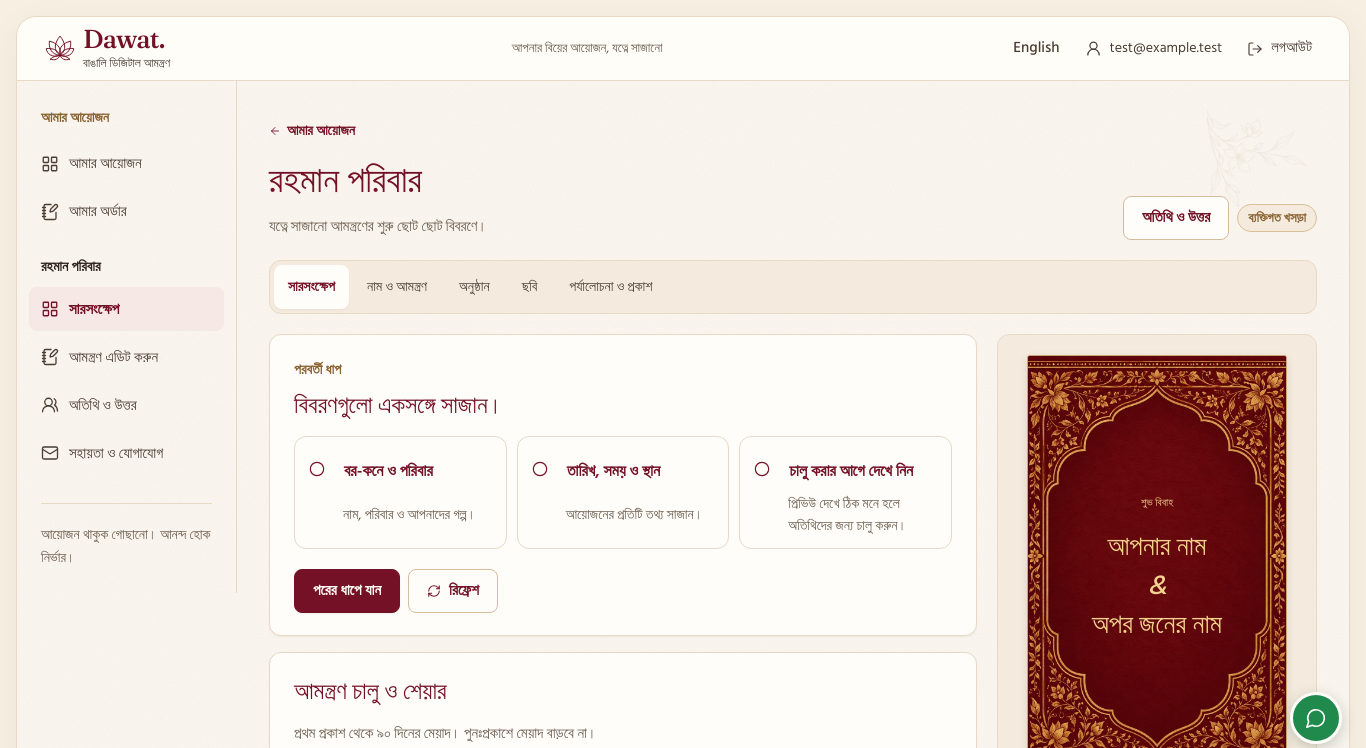
Scenario: provides ready wording behind an edit action while leaving personal details empty
The width and height of the screenshot is (1366, 748).
Click the button "নাম ও আমন্ত্রণ" at (397, 287), box [353, 265, 441, 309]
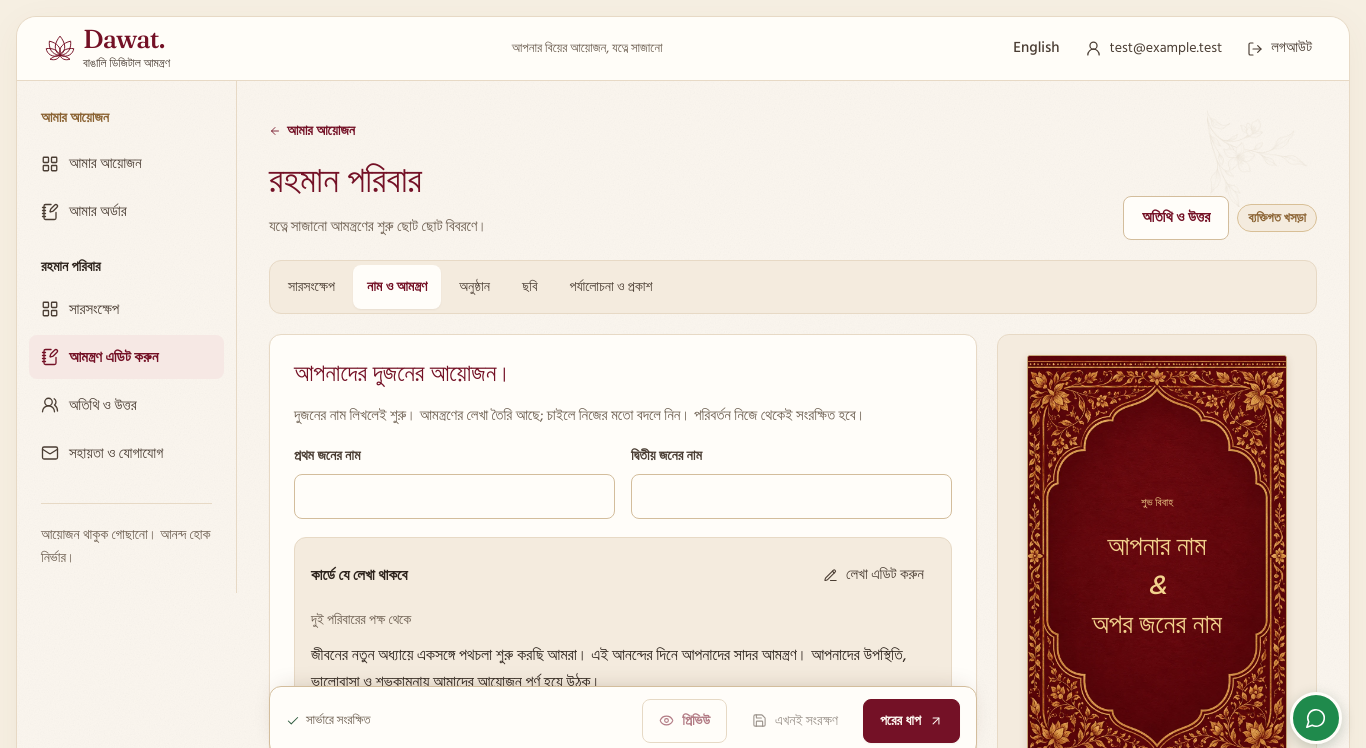
Check: the field labelled "প্রথম জনের নাম" is empty, box [294, 474, 615, 519]
Check: the text "জীবনের নতুন অধ্যায়ে একসঙ্গে পথচলা শুরু করছি আমরা। এই আনন্দের দিনে আপনাদের সাদর আমন্ত্রণ। আপনাদের উপস্থিতি, ভালোবাসা ও শু" is shown, box [311, 642, 910, 694]
Click the button "লেখা এডিট করুন" at (874, 576), box [812, 554, 935, 598]
(page scrolled)
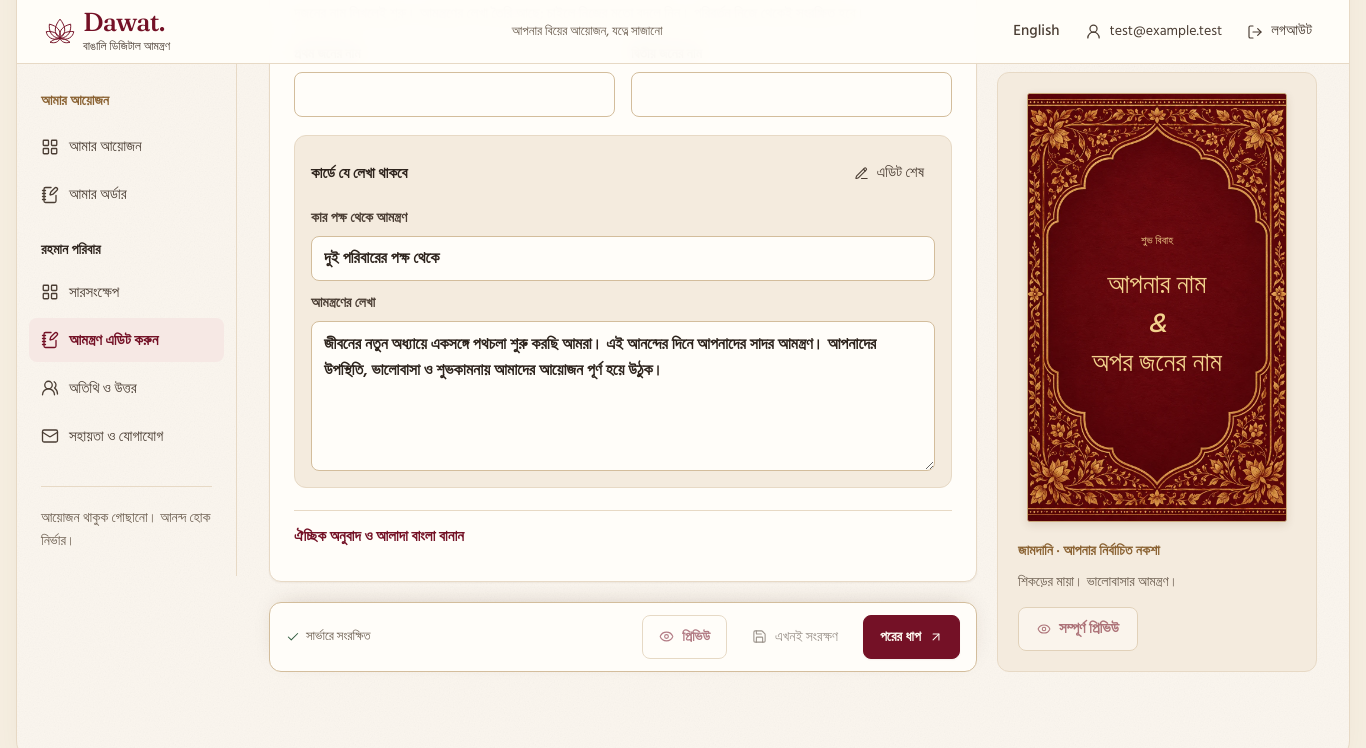
Check: the text box labelled "আমন্ত্রণের লেখা" holds "জীবনের নতুন অধ্যায়ে একসঙ্গে পথচলা শুরু করছি আমরা। এই আনন্দের দিনে আপনাদের সাদর আমন্ত্রণ। আপনাদের উপস্থিতি, ভালোবাসা ও শুভকামনায় আমাদের আয়োজন পূর্ণ হয়ে উঠুক।", box [311, 321, 935, 471]
